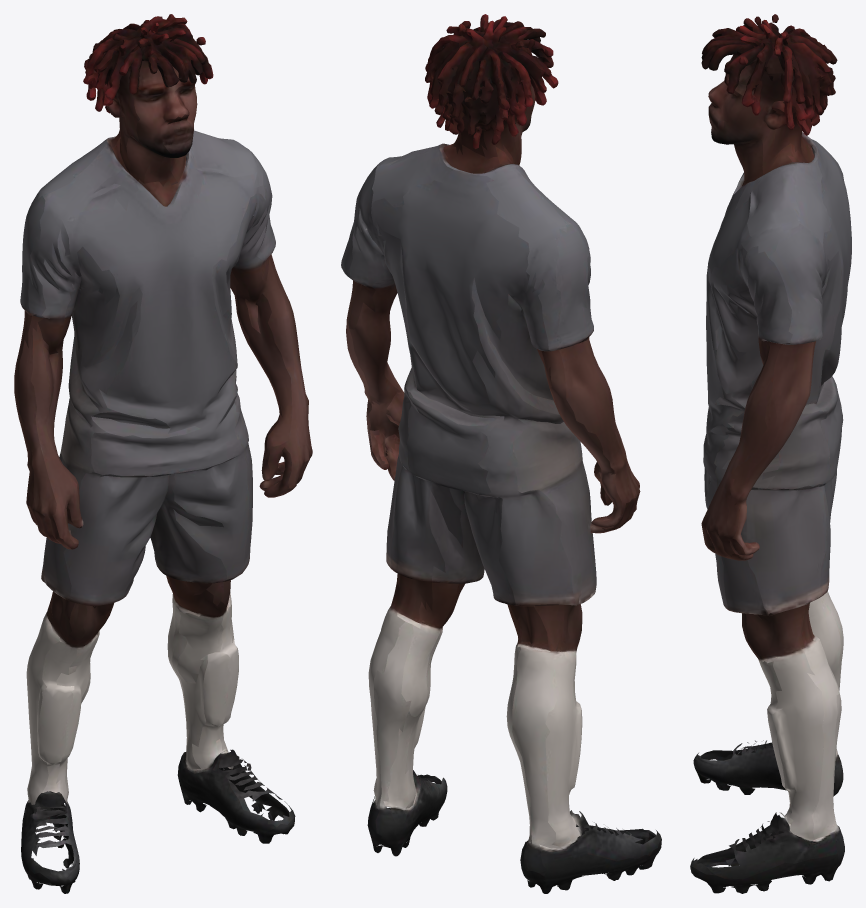
3 renders of one model, left to right at view 1: azimuth 30°, elevation 25°; view 2: azimuth 150°, elevation 25°; view 3: azimuth 270°, elevation 25°, orthographic.
Visible parts, largest first — view 1: model; view 2: model; view 3: model.
Boxes of the visible parts, <box> form: model: <box>14,14,312,893</box>; model: <box>341,14,661,893</box>; model: <box>690,14,851,893</box>.
Size of the model in its own units: 0.3608 by 1 by 0.1796.
1 material, 1 textured.
